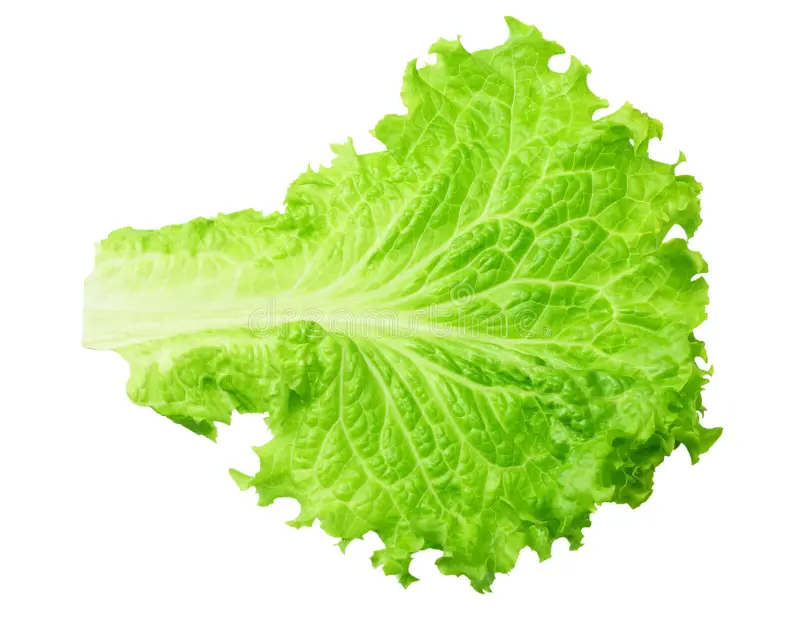lettuce: (34, 12, 733, 553)
